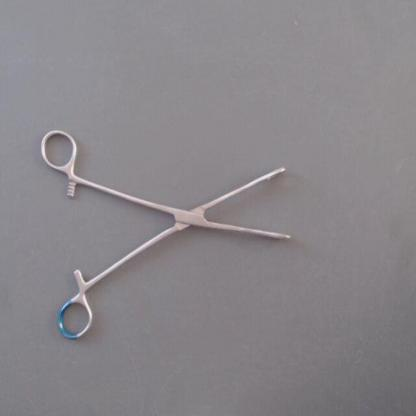Sponge Forceps: (37, 122, 300, 347)
